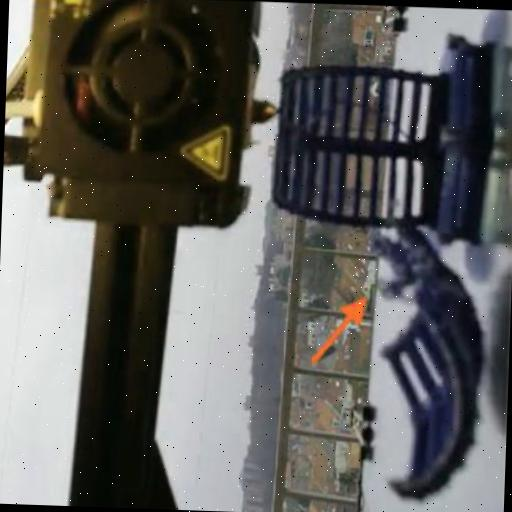spaghetti: (362, 216, 438, 302)
